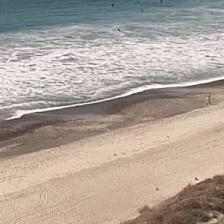surfer: (117, 28, 122, 32), (141, 8, 144, 12), (136, 0, 140, 3), (160, 0, 164, 3), (111, 3, 114, 6), (201, 0, 204, 1)
